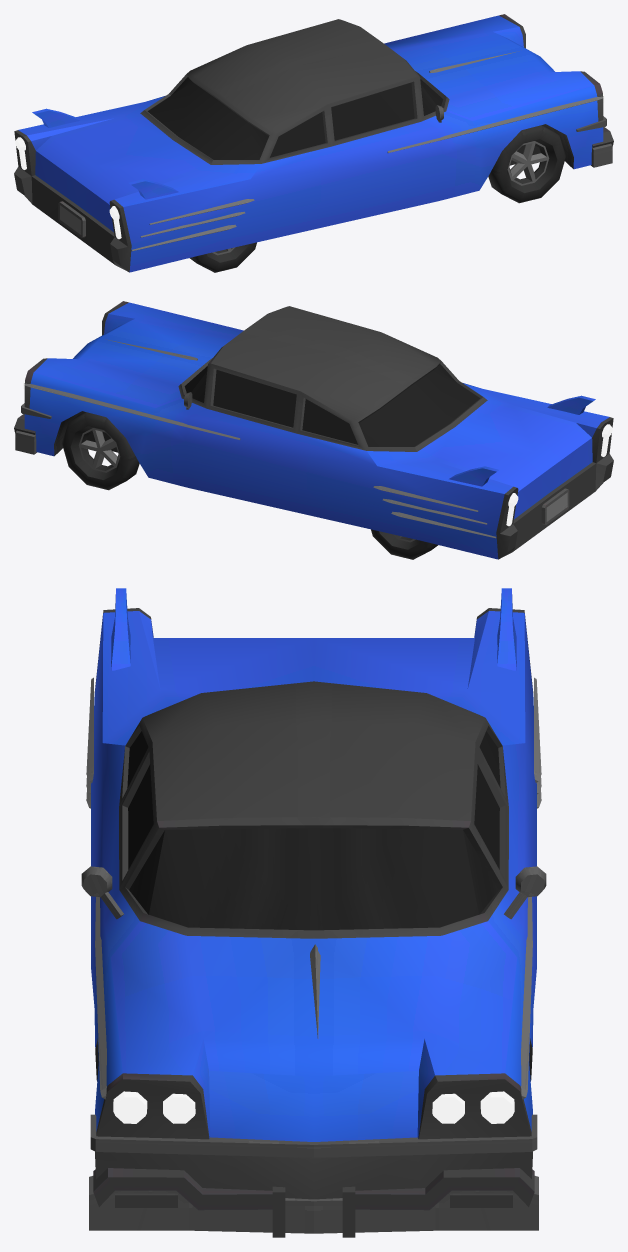
Rendered from mobil.glb.
3 renders of one model, top to bottom at view 1: azimuth 30°, elevation 25°; view 2: azimuth 150°, elevation 25°; view 3: azimuth 270°, elevation 25°, orthographic. The views are drawn at different scales.
Visible parts, largest first — view 1: mobil; view 2: mobil; view 3: mobil.
Part boxes in pixels (<box>): mobil: <box>14,14,613,272</box>; mobil: <box>14,301,613,559</box>; mobil: <box>81,588,546,1237</box>.
Size of the model in its own units: 5.34 by 1.51 by 2.16.
4 materials, 3 textured.
